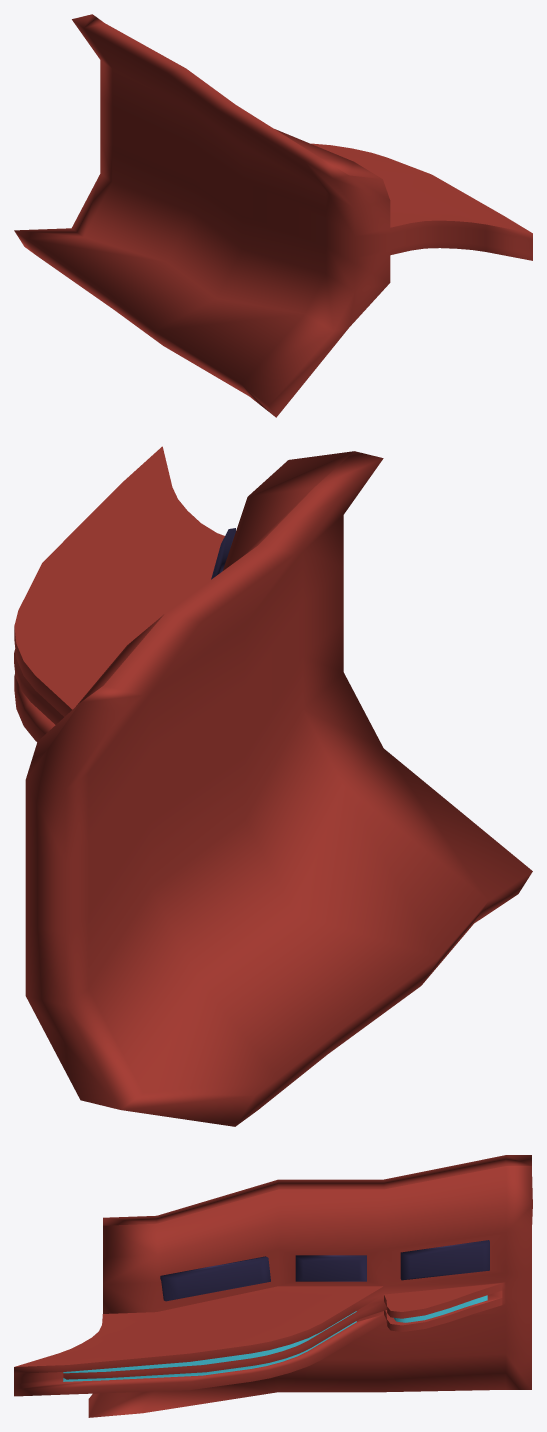
3 renders of one model, top to bottom at view 1: azimuth 30°, elevation 25°; view 2: azimuth 150°, elevation 25°; view 3: azimuth 270°, elevation 25°, orthographic. The views are drawn at different scales.
Parts seen in each view (by area): view 1: Cube.017; view 2: Cube.017; view 3: Cube.017.
Part boxes in pixels (box(x1,y1,x2,y2)): Cube.017: box(14, 14, 532, 417); Cube.017: box(14, 446, 532, 1126); Cube.017: box(14, 1155, 532, 1417).
Size of the model in its own units: 7308 by 6065 by 10807.
